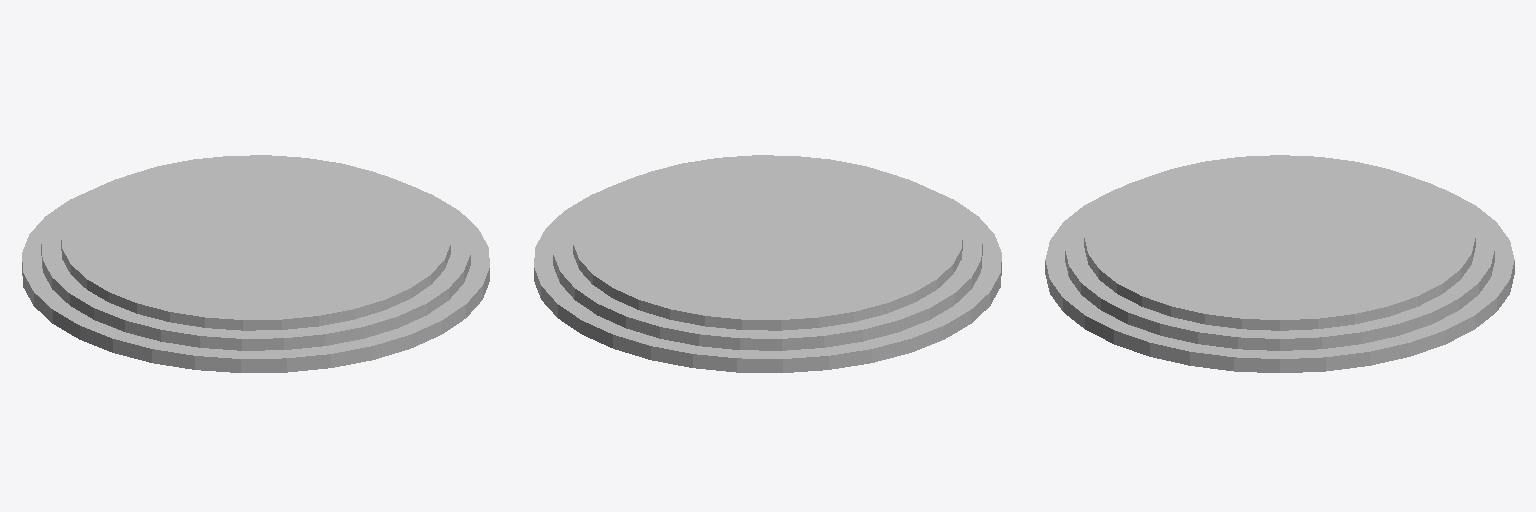
Rendered from stage.obj.
3 renders of one model, left to right at view 1: azimuth 30°, elevation 25°; view 2: azimuth 150°, elevation 25°; view 3: azimuth 270°, elevation 25°, orthographic.
Visible parts, largest first — view 1: cylinder2_Cylinder.001; view 2: cylinder2_Cylinder.001; view 3: cylinder2_Cylinder.001.
Boxes of the visible parts, box(x1,y1,x2,y2) form: cylinder2_Cylinder.001: box(22, 155, 489, 372); cylinder2_Cylinder.001: box(534, 155, 1001, 372); cylinder2_Cylinder.001: box(1045, 155, 1514, 372).
Size of the model in its own units: 12 by 1.03 by 12.